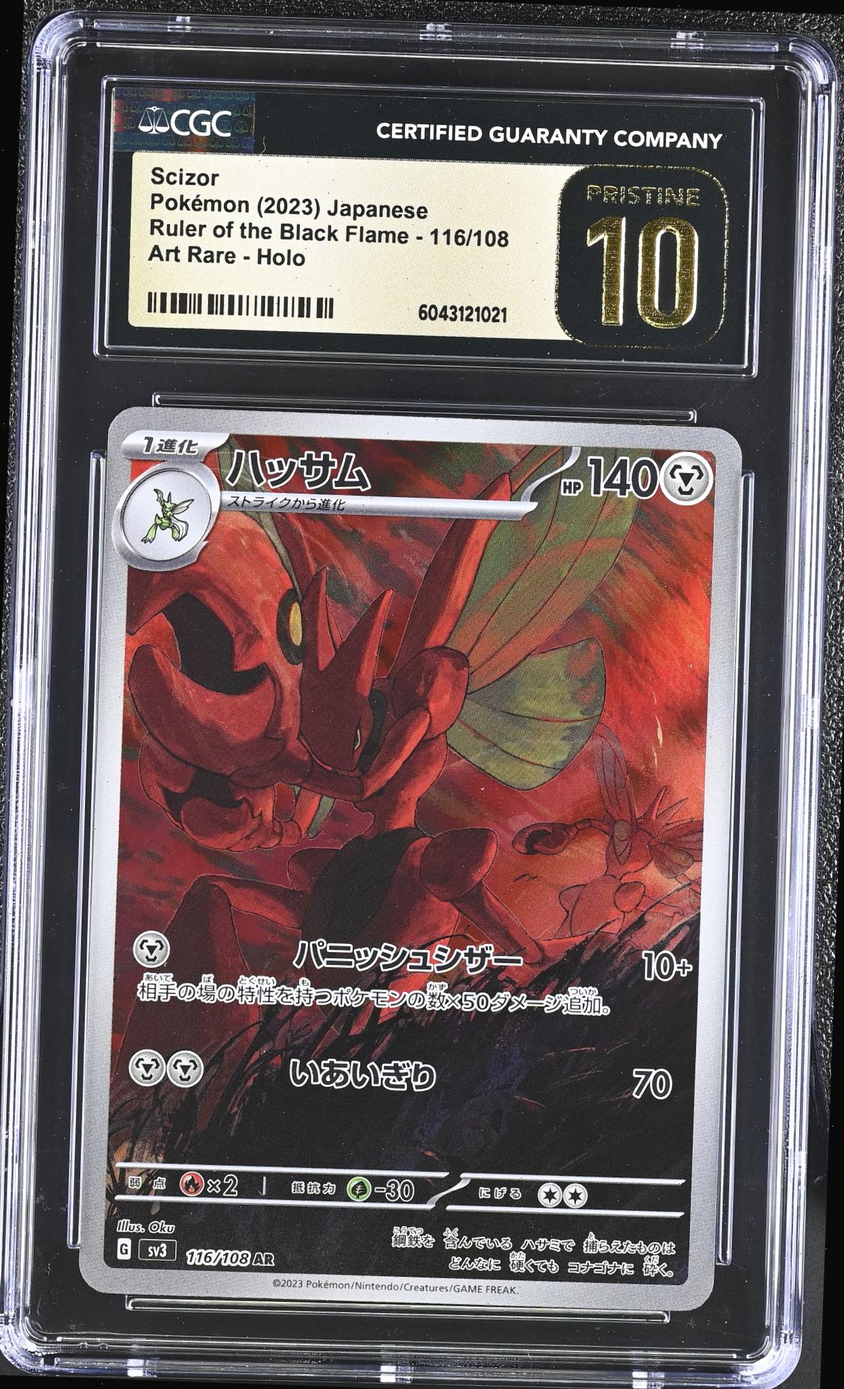card-2UtV: (79, 406, 742, 1312)
